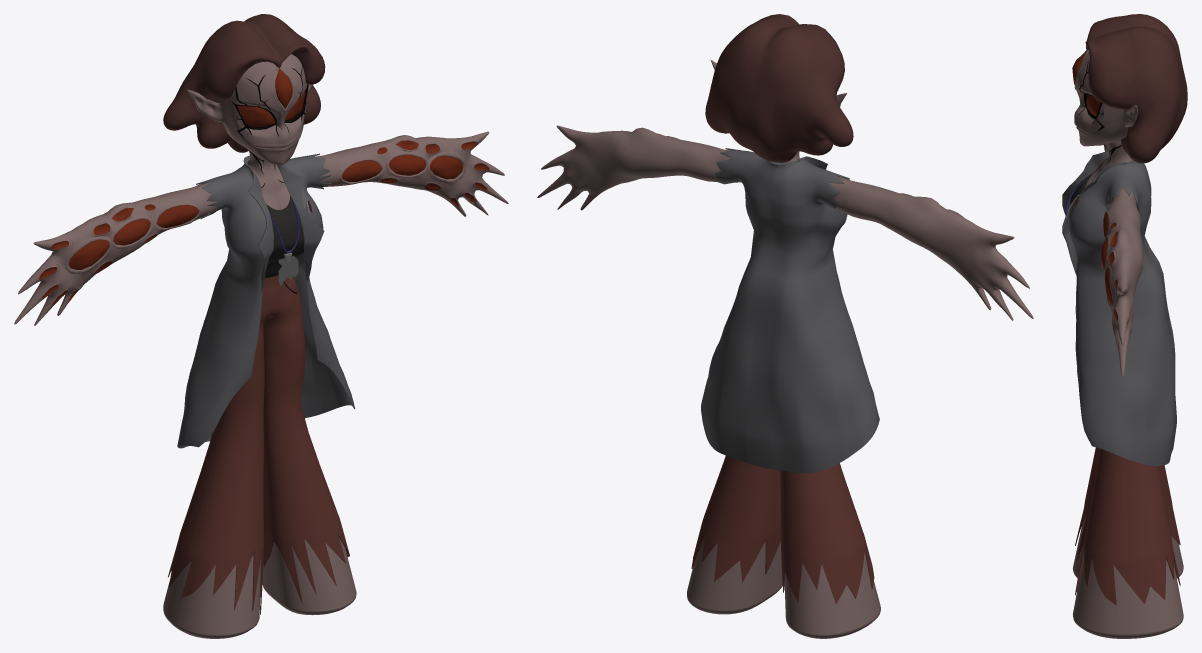
The model's file is PSYCHIATRIST.fbx.
3 renders of one model, left to right at view 1: azimuth 30°, elevation 25°; view 2: azimuth 150°, elevation 25°; view 3: azimuth 270°, elevation 25°, orthographic.
Parts seen in each view (by area): view 1: PANTS, BODY01, ROBE, HAIR, FACE, SHIRT, EYS08; view 2: ROBE, BODY01, PANTS, HAIR; view 3: ROBE, PANTS, BODY01, HAIR, FACE, EYS03.
Boxes of the visible parts, bbox=[...] form: PANTS: bbox=[168, 275, 349, 614]; BODY01: bbox=[14, 131, 508, 638]; ROBE: bbox=[177, 153, 355, 448]; HAIR: bbox=[163, 14, 325, 152]; FACE: bbox=[187, 54, 322, 165]; SHIRT: bbox=[264, 195, 304, 277]; EYS08: bbox=[68, 239, 109, 269]; ROBE: bbox=[701, 148, 879, 473]; BODY01: bbox=[537, 125, 1033, 638]; PANTS: bbox=[691, 455, 874, 604]; HAIR: bbox=[705, 14, 853, 162]; ROBE: bbox=[1062, 148, 1176, 465]; PANTS: bbox=[1075, 447, 1180, 605]; BODY01: bbox=[1072, 139, 1183, 638]; HAIR: bbox=[1085, 14, 1187, 163]; FACE: bbox=[1074, 49, 1137, 146]; EYS03: bbox=[1086, 94, 1100, 116].
Bounding box in the file's own units: 1.63 × 1.84 × 0.3618.
